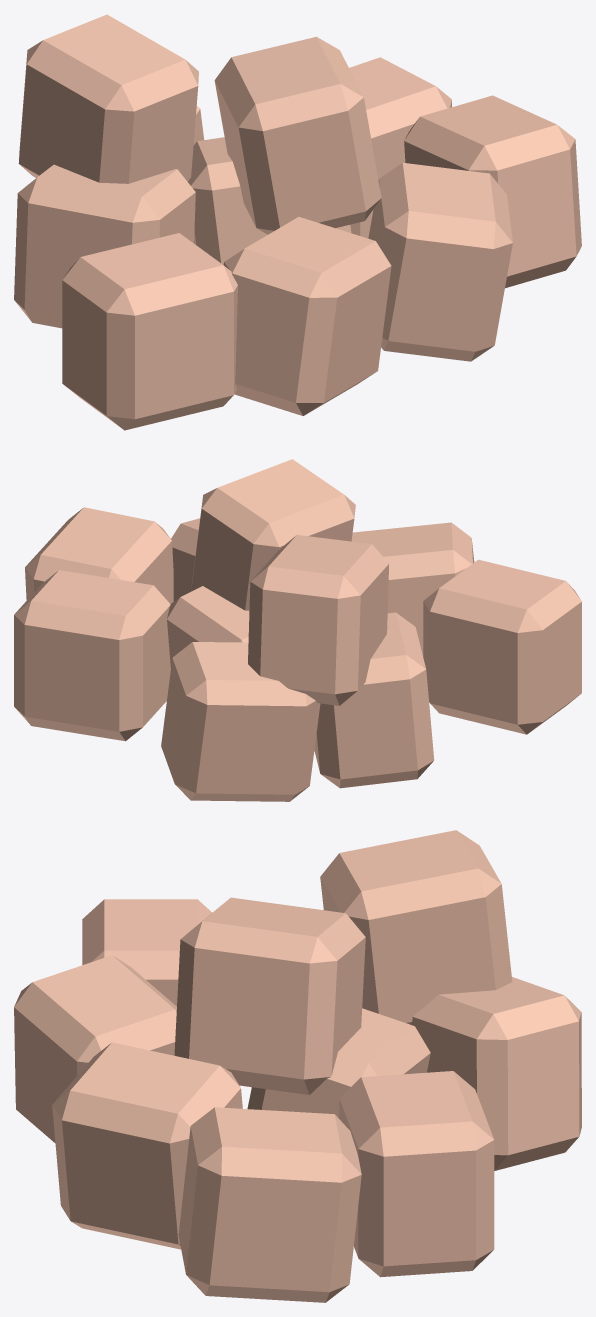
The model's file is FTF_Ingredient_ChoppedChicken.glb.
3 renders of one model, top to bottom at view 1: azimuth 30°, elevation 25°; view 2: azimuth 150°, elevation 25°; view 3: azimuth 270°, elevation 25°, orthographic. The views are drawn at different scales.
Parts seen in each view (by area): view 1: FTF_Ingredient_ChoppedChicken_StaticMesh; view 2: FTF_Ingredient_ChoppedChicken_StaticMesh; view 3: FTF_Ingredient_ChoppedChicken_StaticMesh.
Boxes of the visible parts, bbox=[...] form: FTF_Ingredient_ChoppedChicken_StaticMesh: bbox=[14, 14, 581, 430]; FTF_Ingredient_ChoppedChicken_StaticMesh: bbox=[14, 459, 581, 801]; FTF_Ingredient_ChoppedChicken_StaticMesh: bbox=[14, 830, 581, 1302].
Size of the model in its own units: 0.7005 by 0.3301 by 0.6196.
